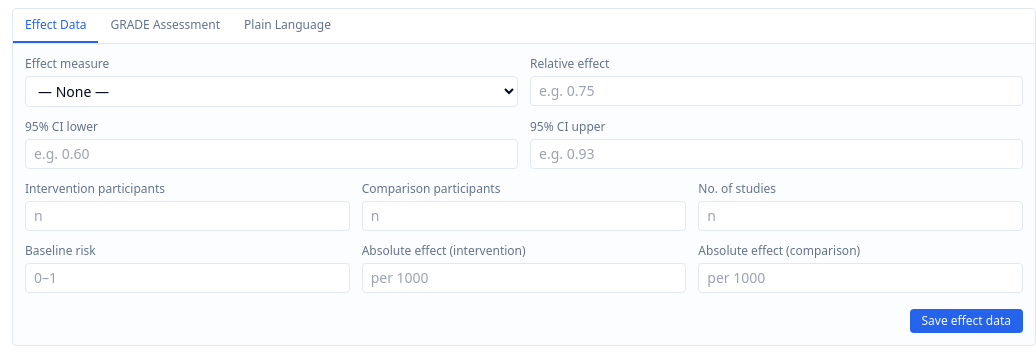
Scenario: GradeAssessmentPanel › switches to Plain Language tab
Click the button "Plain Language": (288, 26) 232,9 -> 343,43
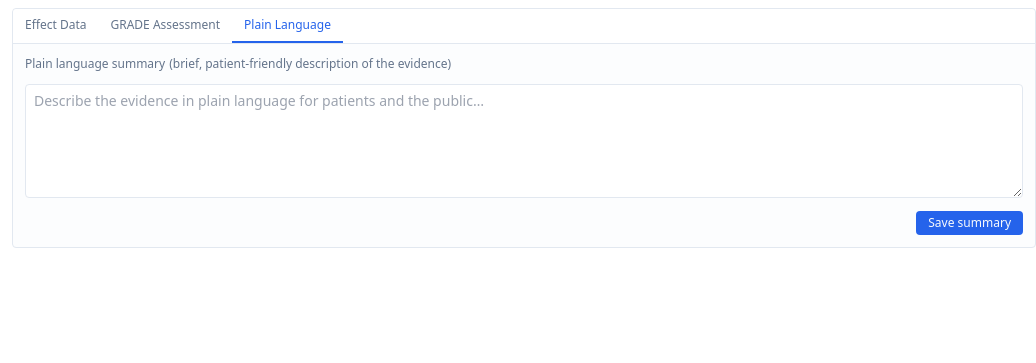
Now the text box named "Plain language summary" is shown, box 25,84 -> 1023,198
